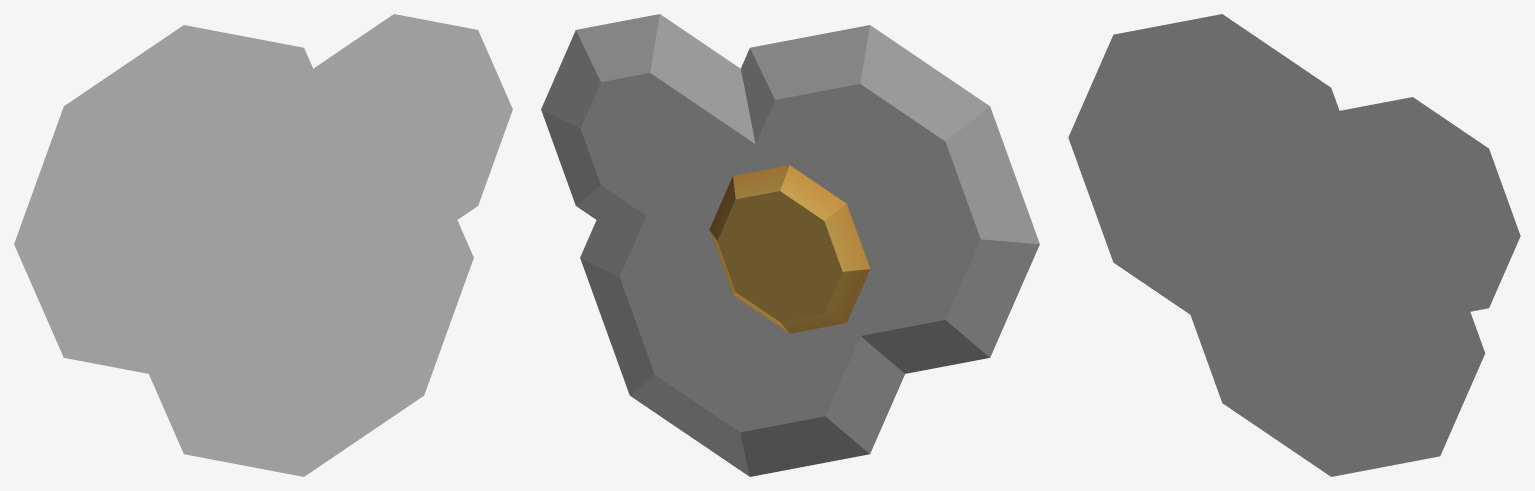
The model's file is egg-cooked.glb.
3 views of the same model, side by side, from view 1: azimuth 30°, elevation 25°; view 2: azimuth 150°, elevation 25°; view 3: azimuth 330°, elevation 25° (orthographic). The views are drawn at different scales.
Visible parts, largest first — view 1: geometry_0; view 2: geometry_0; view 3: geometry_0.
Part boxes in pixels (x1=…): geometry_0: x1=14, y1=14, x2=512, y2=476; geometry_0: x1=541, y1=14, x2=1039, y2=476; geometry_0: x1=1068, y1=14, x2=1520, y2=476.
Bounding box in the file's own units: 1.1 × 1.01 × 0.0749.
